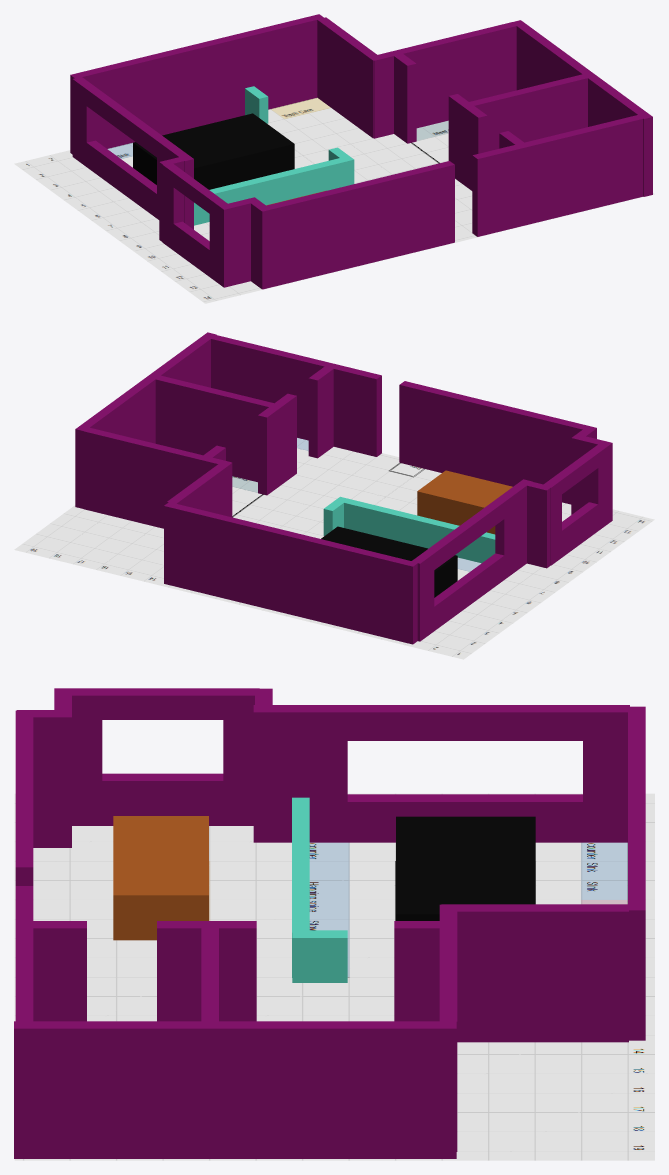
Rendered from Test_Map_BlockOut_low.obj.
The picture shows the model from 3 angles, top to bottom: view 1: azimuth 30°, elevation 25°; view 2: azimuth 150°, elevation 25°; view 3: azimuth 270°, elevation 25°; orthographic projection. The views are drawn at different scales.
Visible parts, largest first — view 1: Test_claim, wall_3, wall_11, wall_6, wall_4, island, wall_2, wall_5, wall_7, wall1, wall_13, Counter_1 (+6 smaller); view 2: Test_claim, wall_3, wall_11, wall_6, wall_4, wall_2, wall_5, wall_7, wall_13, Counter_1, table, wall_8 (+7 smaller); view 3: Test_claim, wall_7, wall_2, wall1, wall_13, island, table, wall_8, wall_3, wall_9, wall_12, wall_10 (+6 smaller).
Boxes of the visible parts, x1,y1,x2,y2 form: Test_claim: (14,97,654,303); wall_3: (70,14,323,154); wall_11: (258,161,454,289); wall_6: (472,113,648,236); wall_4: (370,22,516,138); island: (133,113,294,189); wall_2: (72,77,193,229); wall_5: (464,74,587,151); wall_7: (512,20,652,196); wall1: (317,17,381,138); wall_13: (162,162,228,283); Counter_1: (194,157,347,225); Test_claim: (14,438,654,659); wall_3: (164,502,417,644); wall_11: (399,381,596,504); wall_6: (206,333,381,456); wall_4: (83,427,232,528); wall_2: (411,479,532,641); wall_5: (155,375,280,482); wall_7: (75,332,216,508); wall_13: (543,444,607,565); Counter_1: (341,498,495,563); table: (417,470,512,534); wall_8: (258,393,296,495); Test_claim: (14,793,654,1160); wall_7: (14,1021,456,1158); wall_2: (253,705,629,842); wall1: (441,904,628,1042); wall_13: (66,688,259,825); island: (396,816,535,920); table: (113,816,208,940); wall_8: (157,921,256,1021); wall_3: (628,706,645,1040); wall_9: (31,921,86,1021); wall_12: (16,710,71,847); wall_10: (394,921,449,1021).
Bounding box in the file's own units: 15.7 × 2.6 × 11.58.
